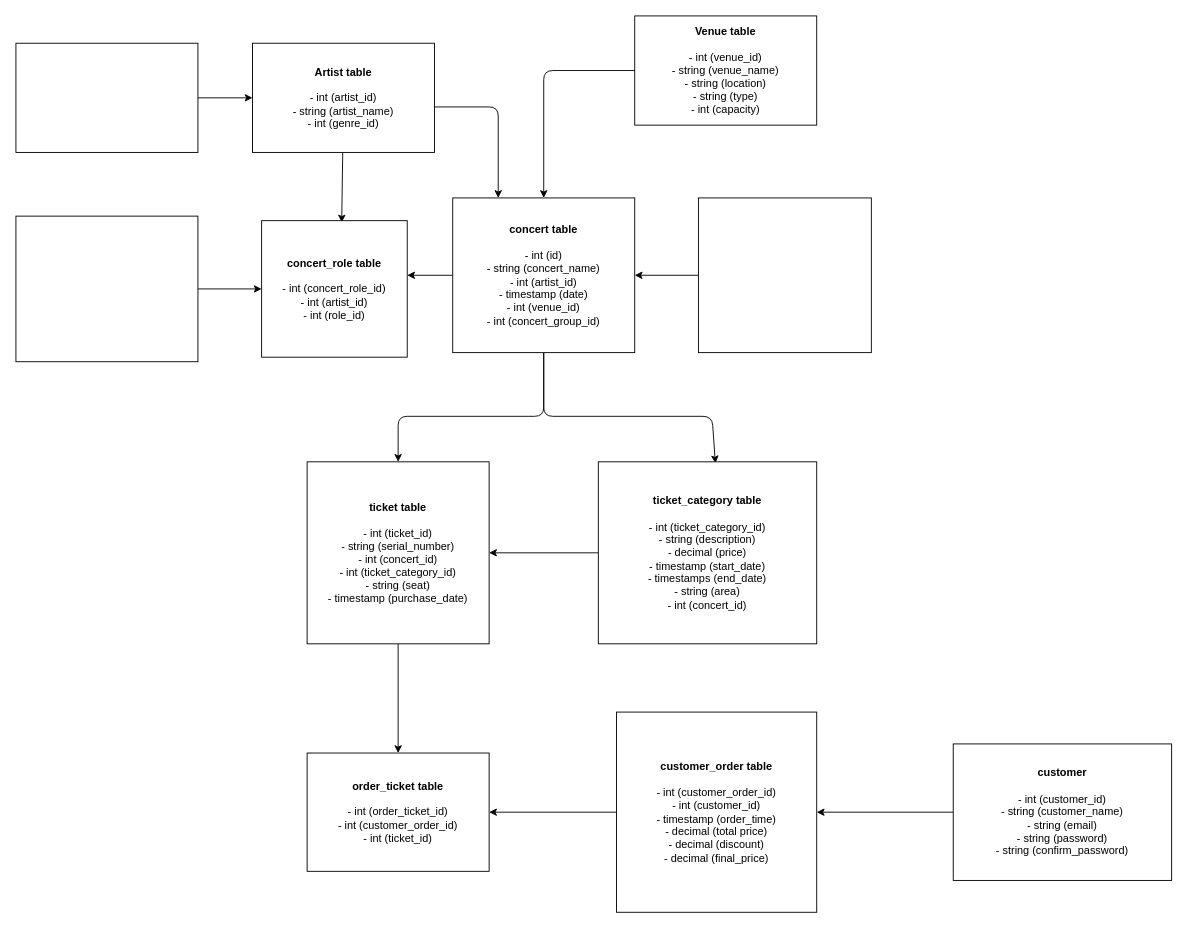
Some shapes in this 1188 by 928 pixel diagram are drawn without their labels. Here are the shapes that lost their labels. From the top down, the centre of each, then its label:
point 106,97: Genre table - int (genre_id) - string (genre_name)
point 106,288: role table - int (role_id) -string (role_name)
point 784,275: concert_groupe table - int (concert_groupe_id) - string (name)
